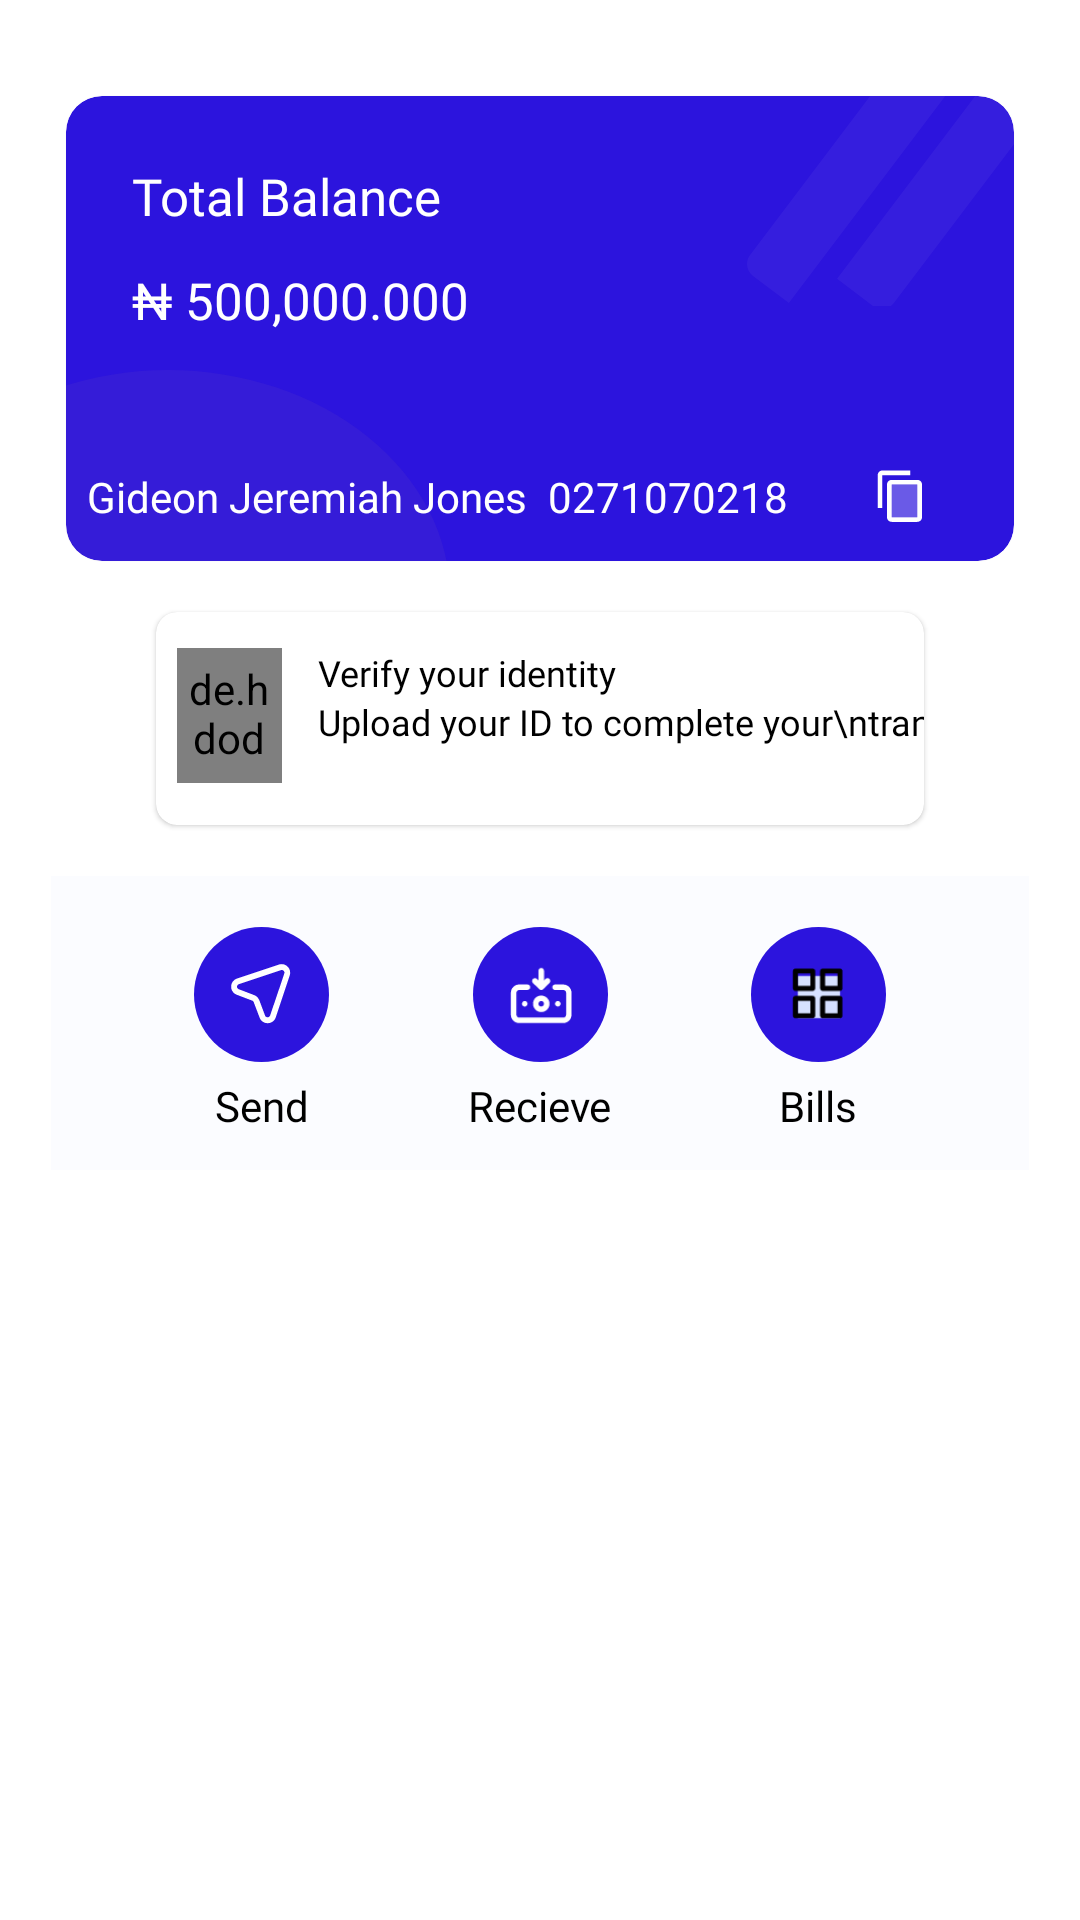

Icon bounding boxes for this 1080 x 1920 phone screenshot, format [x1,y1,x2,y2]:
copyicon: [877,470,922,522]
